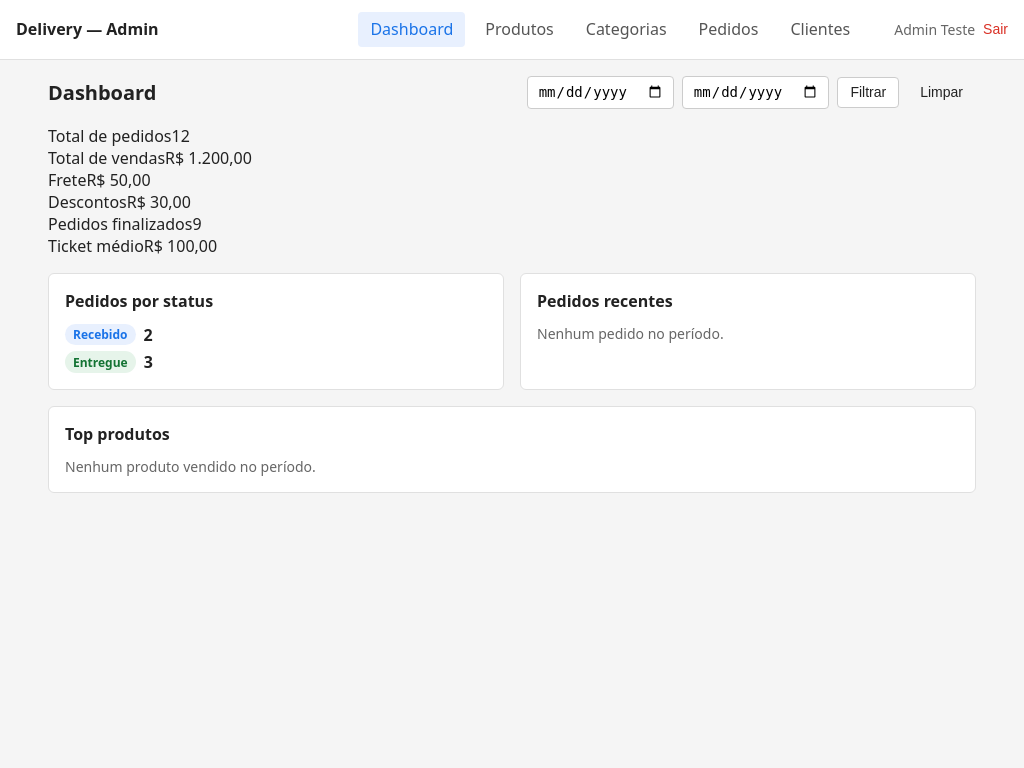
Test: AdminApp › logs out and returns to login
Expected: the text "Total de pedidos" is shown, [48, 125, 172, 147]
Click the button "Sair" at (996, 29), box [983, 21, 1008, 37]
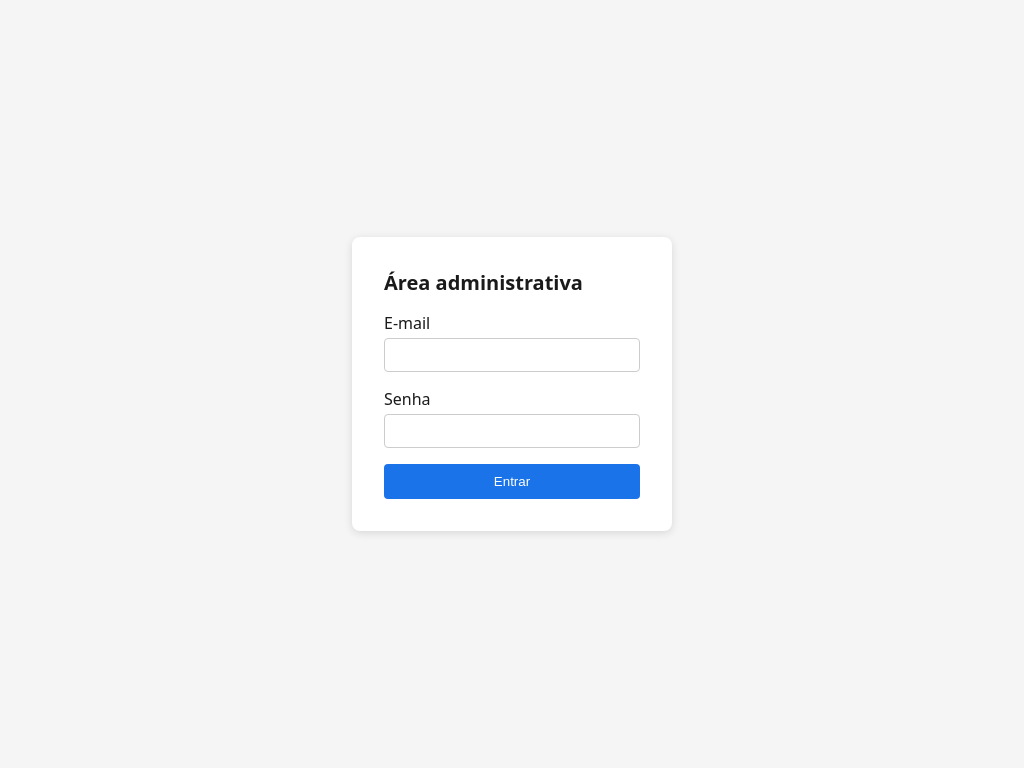
Now the field labelled "E-mail" is shown, box [384, 338, 640, 372]
